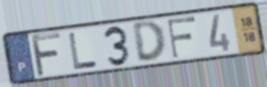3: (102, 24, 130, 68)
4: (208, 13, 231, 53)
D: (131, 19, 168, 64)
F: (29, 31, 63, 79), (166, 15, 198, 60)
L: (67, 31, 99, 71)
